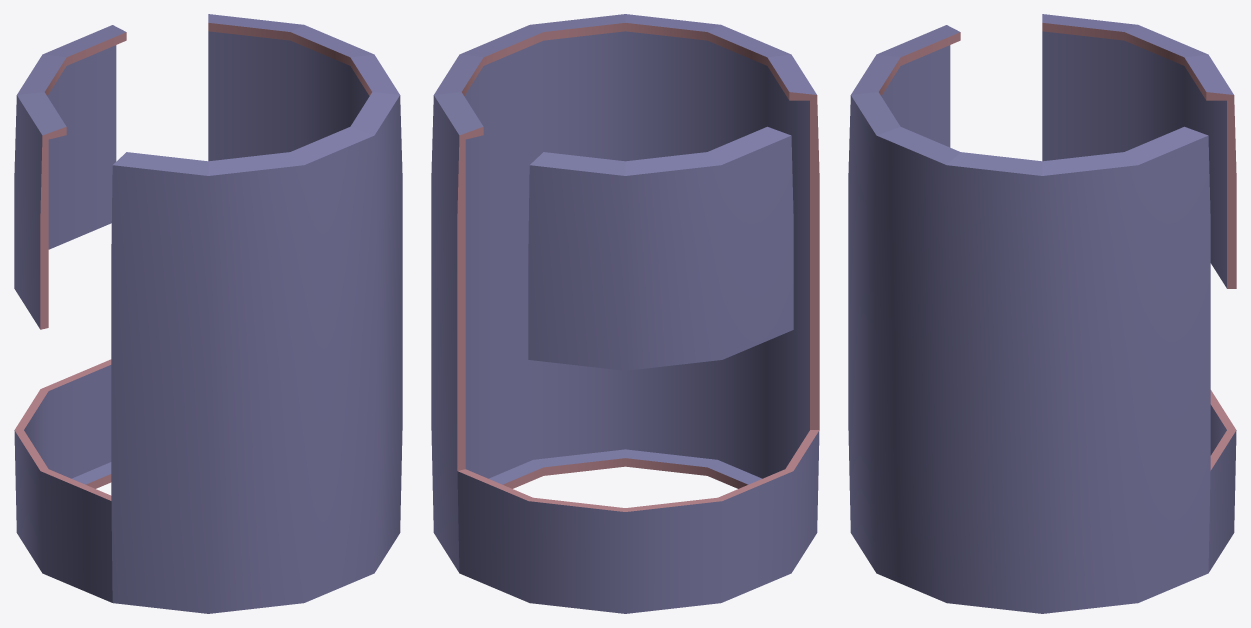
The model's file is tubofixedfinal.fbx.
3 views of the same model, side by side, from view 1: azimuth 30°, elevation 25°; view 2: azimuth 150°, elevation 25°; view 3: azimuth 270°, elevation 25° (orthographic).
Visible parts, largest first — view 1: CylinderBroken_low, Object001, CylinderBroken_low001; view 2: CylinderBroken_low, Object001, CylinderBroken_low001; view 3: CylinderBroken_low, Object001, CylinderBroken_low001.
Part boxes in pixels (x1,y1,x2,y2): CylinderBroken_low: (111,14,402,613); Object001: (14,25,126,329); CylinderBroken_low001: (14,359,112,602); CylinderBroken_low: (431,14,819,572); Object001: (528,126,793,370); CylinderBroken_low001: (457,430,819,613); CylinderBroken_low: (848,25,1210,613); Object001: (1042,14,1236,288); CylinderBroken_low001: (1208,390,1236,572).
Size of the model in its own units: 41.19 by 51.98 by 41.19.
